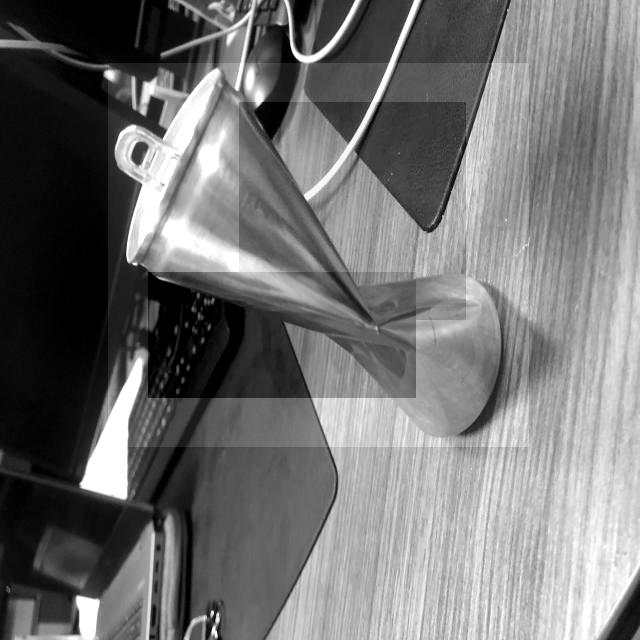deform: (239, 102, 466, 320), (148, 272, 416, 398)
metal: (108, 64, 529, 447)
